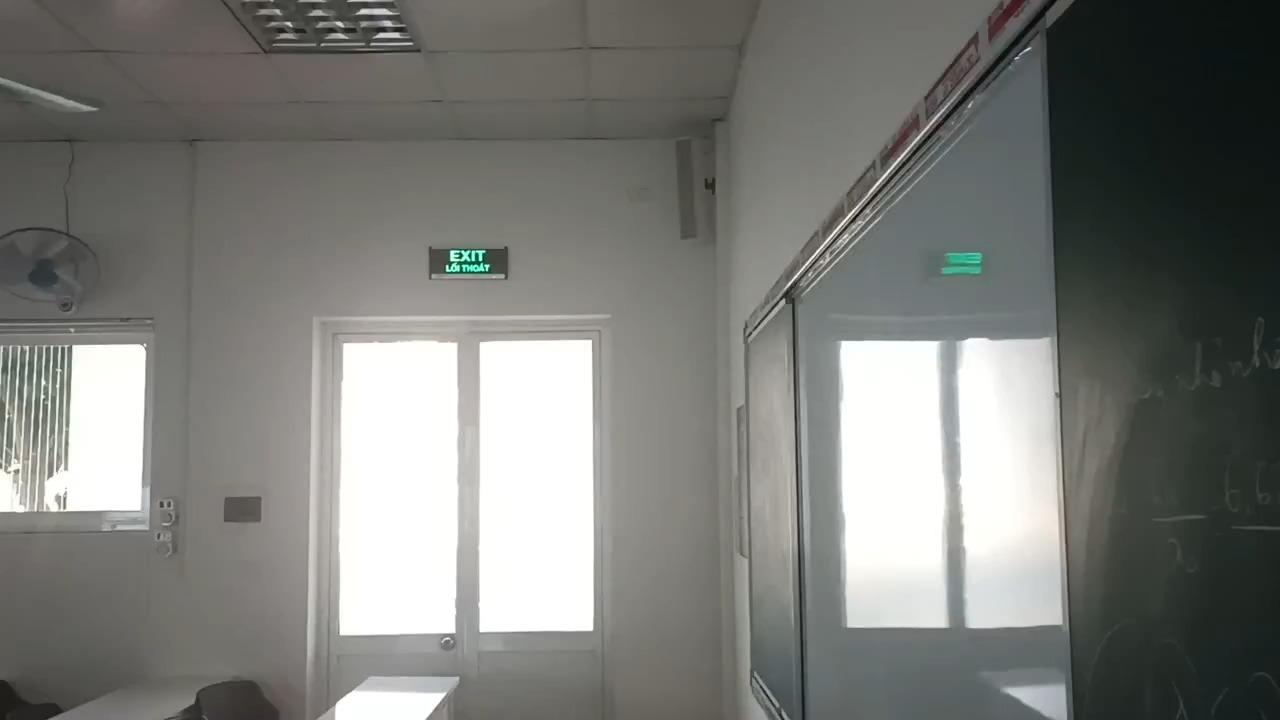board: (746, 39, 1072, 719)
chair: (196, 680, 283, 719), (8, 700, 56, 719), (0, 677, 13, 714)
fan: (0, 231, 84, 313)
table: (47, 675, 233, 719), (320, 676, 456, 719)
